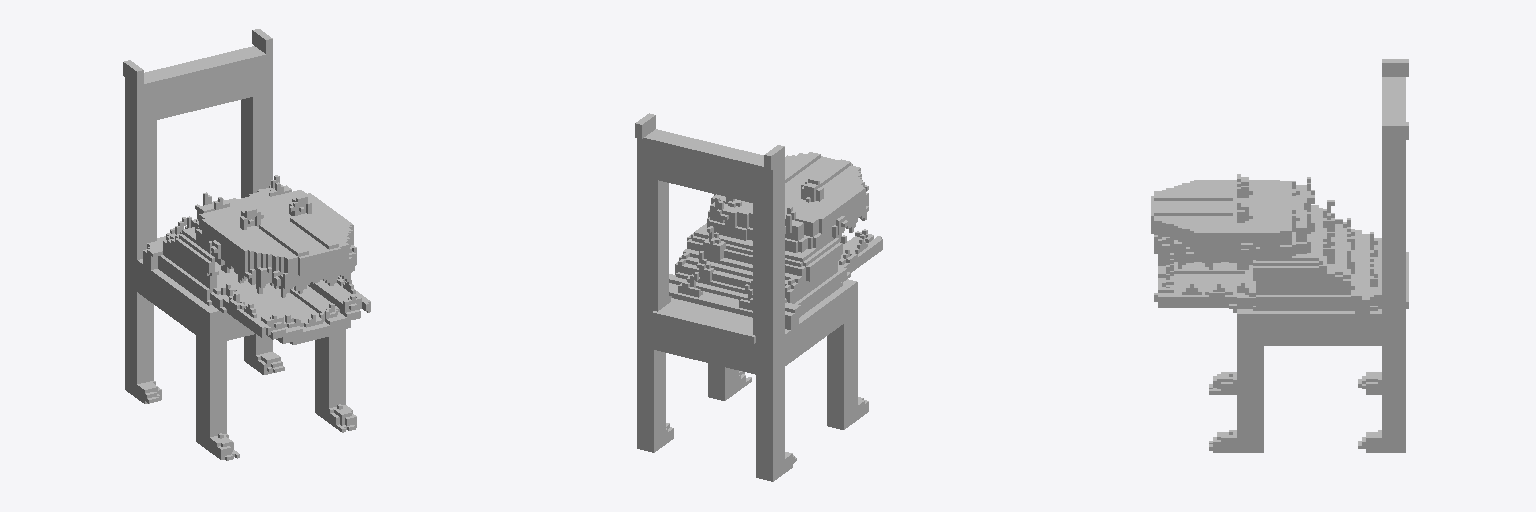
The model's file is charisaurrus (original).obj.
3 views of the same model, side by side, from view 1: azimuth 30°, elevation 25°; view 2: azimuth 150°, elevation 25°; view 3: azimuth 270°, elevation 25° (orthographic).
Parts seen in each view (by area): view 1: object 1; view 2: object 1; view 3: object 1.
Part boxes in pixels (bbox=[...]): object 1: bbox=[123, 29, 370, 460]; object 1: bbox=[635, 113, 882, 481]; object 1: bbox=[1151, 59, 1408, 452].
Bounding box in the file's own units: 4 × 9.2 × 6.6.